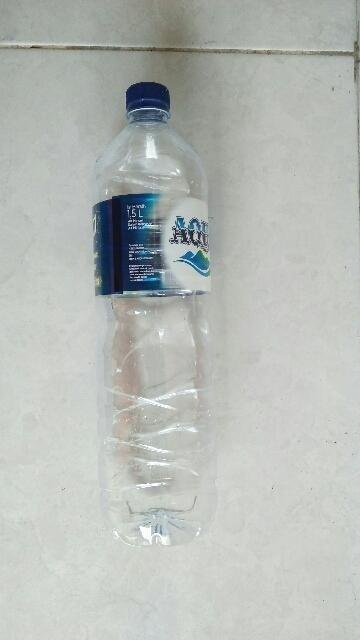bottle-plastic: (90, 75, 215, 554)
